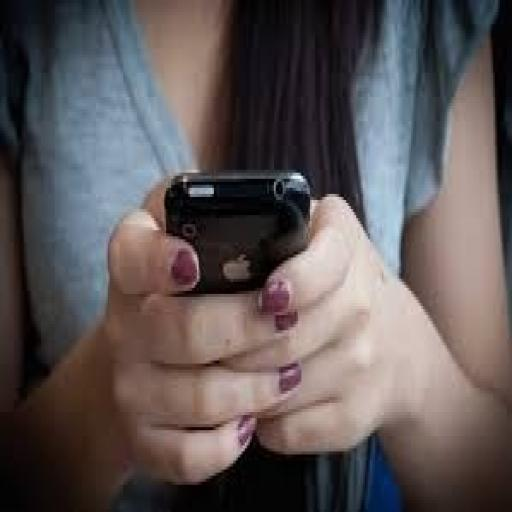texting: (0, 0, 509, 506)
